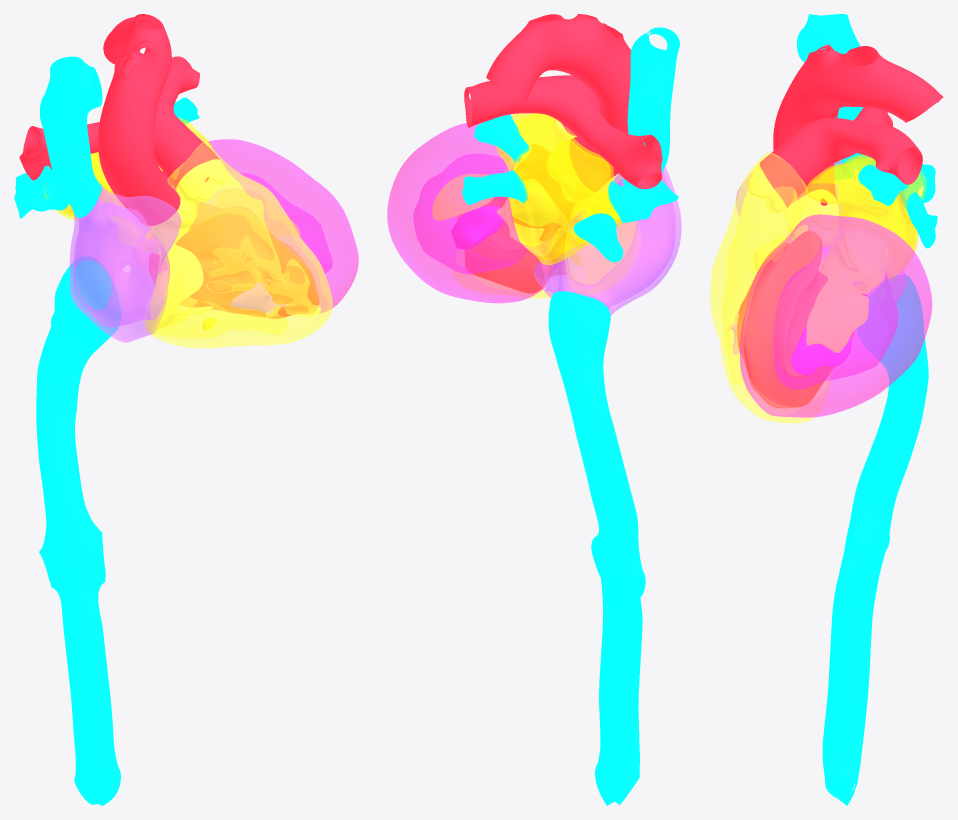
The model's file is herz-female.glb.
3 views of the same model, side by side, from view 1: azimuth 30°, elevation 25°; view 2: azimuth 150°, elevation 25°; view 3: azimuth 270°, elevation 25° (orthographic).
Parts seen in each view (by area): view 1: 0:4:VH_F_right_ventricle, 1:6:VH_F_inferior_vena_cava_b, 0:3:VH_F_right_cardiac_atrium, 0:2:VH_F_left_ventricle, 0:0:VH_F_interventricular_septum, 1:4:VH_F_superior_vena_cava, 1:11:VH_F_ascending_aorta, 1:5:VH_F_inferior_vena_cava_a, 1:10:VH_F_aortic_arch, 0:15:VH_F_tricuspid_valve, 1:8:VH_F_pulmonary_trunk, 0:7:VH_F_papillary_muscle_of_heart_antlat (+8 smaller); view 2: 0:2:VH_F_left_ventricle, 1:6:VH_F_inferior_vena_cava_b, 0:1:VH_F_left_cardiac_atrium, 0:3:VH_F_right_cardiac_atrium, 1:10:VH_F_aortic_arch, 0:0:VH_F_interventricular_septum, 1:5:VH_F_inferior_vena_cava_a, 1:4:VH_F_superior_vena_cava, 1:9:VH_F_pulmonary_artery_R, 0:15:VH_F_tricuspid_valve, 1:7:VH_F_pulmonary_artery_L, 0:13:VH_F_mitral_valve (+10 smaller); view 3: 0:2:VH_F_left_ventricle, 1:6:VH_F_inferior_vena_cava_b, 0:4:VH_F_right_ventricle, 0:0:VH_F_interventricular_septum, 1:10:VH_F_aortic_arch, 0:1:VH_F_left_cardiac_atrium, 1:5:VH_F_inferior_vena_cava_a, 1:7:VH_F_pulmonary_artery_L, 1:8:VH_F_pulmonary_trunk, 0:7:VH_F_papillary_muscle_of_heart_antlat, 1:4:VH_F_superior_vena_cava, 0:12:VH_F_aortic_valve (+10 smaller).
Boxes of the visible parts, x1,y1,x2,y2 form: 0:4:VH_F_right_ventricle: (144,141,332,348); 1:6:VH_F_inferior_vena_cava_b: (36,345,120,805); 0:3:VH_F_right_cardiac_atrium: (69,186,181,342); 0:2:VH_F_left_ventricle: (208,139,358,312); 0:0:VH_F_interventricular_septum: (149,201,318,318); 1:4:VH_F_superior_vena_cava: (40,56,102,217); 1:11:VH_F_ascending_aorta: (98,106,180,225); 1:5:VH_F_inferior_vena_cava_a: (44,257,120,366); 1:10:VH_F_aortic_arch: (102,14,171,111); 0:15:VH_F_tricuspid_valve: (146,238,212,333); 1:8:VH_F_pulmonary_trunk: (154,101,219,189); 0:7:VH_F_papillary_muscle_of_heart_antlat: (216,190,299,236); 0:2:VH_F_left_ventricle: (387,123,553,303); 1:6:VH_F_inferior_vena_cava_b: (565,387,645,805); 0:1:VH_F_left_cardiac_atrium: (496,113,622,264); 0:3:VH_F_right_cardiac_atrium: (534,166,681,315); 1:10:VH_F_aortic_arch: (486,14,631,103); 0:0:VH_F_interventricular_septum: (457,144,574,293); 1:5:VH_F_inferior_vena_cava_a: (548,291,610,390); 1:4:VH_F_superior_vena_cava: (623,27,679,186); 1:9:VH_F_pulmonary_artery_R: (569,96,662,188); 0:15:VH_F_tricuspid_valve: (565,190,636,294); 1:7:VH_F_pulmonary_artery_L: (464,75,568,127); 0:13:VH_F_mitral_valve: (497,178,567,256); 0:2:VH_F_left_ventricle: (739,214,932,417); 1:6:VH_F_inferior_vena_cava_b: (822,356,928,805); 0:4:VH_F_right_ventricle: (710,152,830,423); 0:0:VH_F_interventricular_septum: (737,230,866,407); 1:10:VH_F_aortic_arch: (791,44,943,122); 0:1:VH_F_left_cardiac_atrium: (805,154,926,281); 1:5:VH_F_inferior_vena_cava_a: (857,275,926,379); 1:7:VH_F_pulmonary_artery_L: (823,118,922,184); 1:8:VH_F_pulmonary_trunk: (759,117,855,207); 0:7:VH_F_papillary_muscle_of_heart_antlat: (806,267,868,352); 1:4:VH_F_superior_vena_cava: (797,14,863,178); 0:12:VH_F_aortic_valve: (785,189,838,247).
Bounding box in the file's own units: 0.1576 × 0.3933 × 0.1067.
